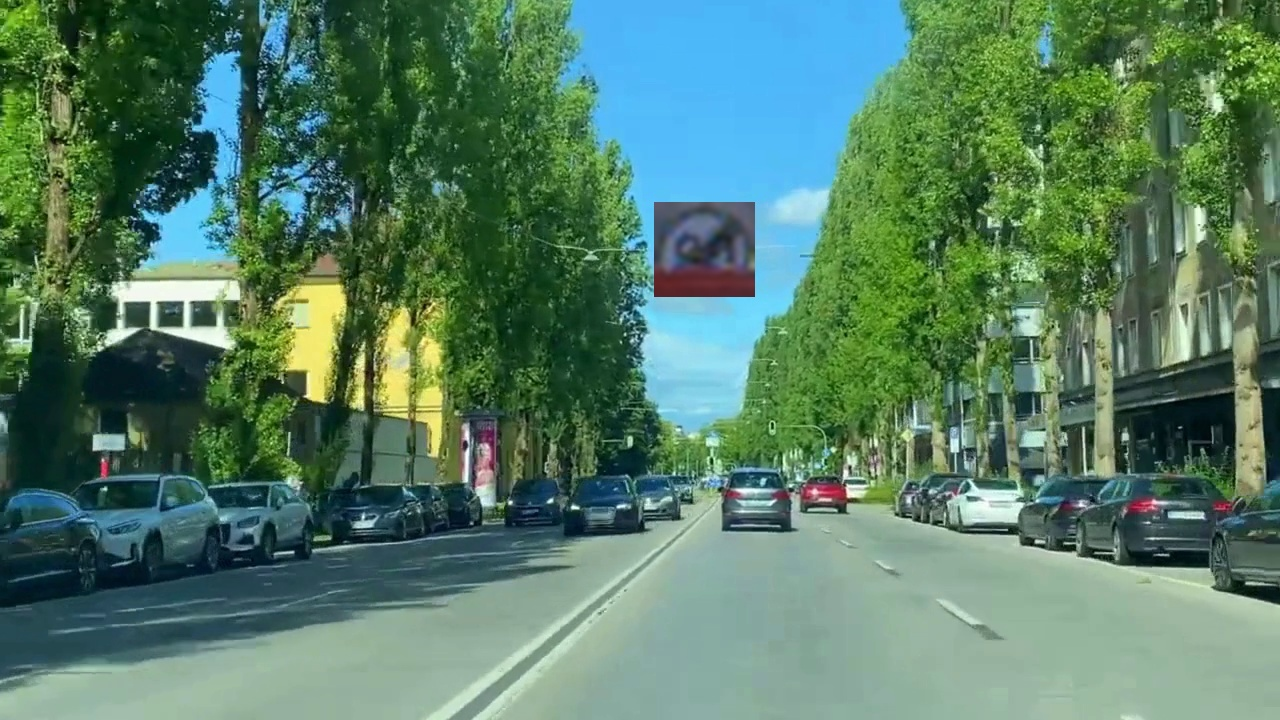End Speed 80: (654, 202, 755, 297)
